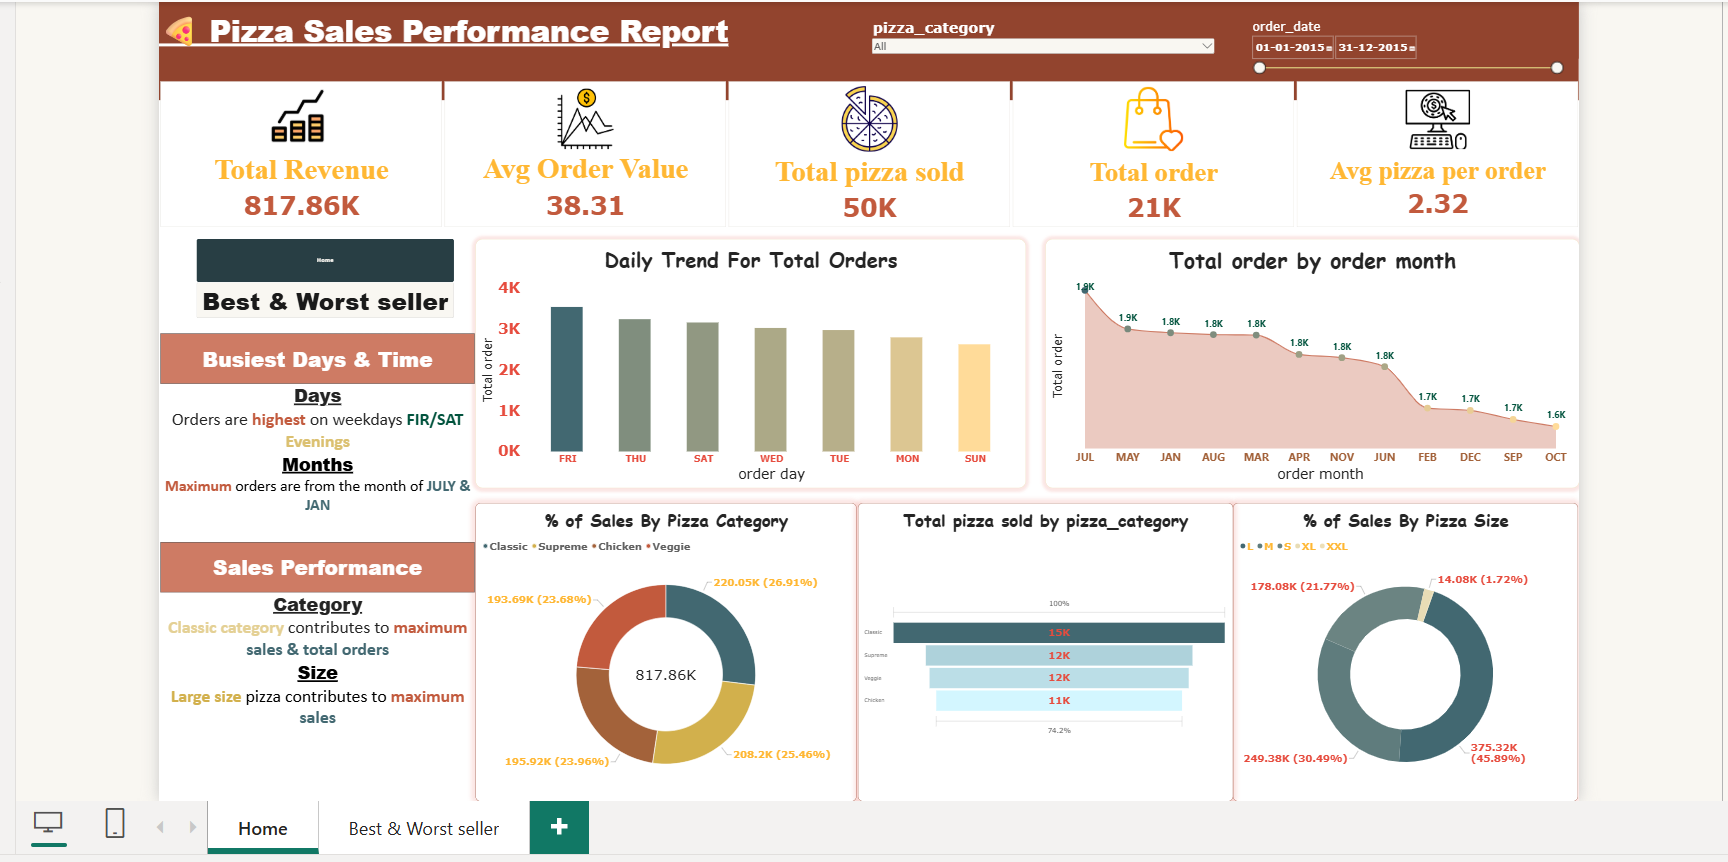

The page's visual inventory and layout, read from the dashboard file:
{"tool":"powerbi","page":{"name":"Home","canvas":[3840,2160],"ordinal":0},"visuals":[{"type":"textbox","title":"🍕 Pizza Sales  Performance Report","box":[2,0,3838,265],"z":0},{"type":"cardVisual","fields":{"Data":["pizza_sales.Total Revenue","pizza_sales.Avg Order Value","pizza_sales.Total pizza sold","pizza_sales.Total order","pizza_sales.Avg pizza per order"]},"box":[4.1,214.9,3832.1,393.3],"z":1000},{"type":"columnChart","title":"Daily Trend For Total Orders","fields":{"Category":["pizza_sales.order day"],"Y":["pizza_sales.Total order"]},"box":[855.6,640.7,1488.2,673.2],"z":1001},{"type":"areaChart","fields":{"Category":["pizza_sales.order month"],"Y":["pizza_sales.Total order"]},"box":[2396.6,640.7,1443.6,673.2],"z":1002},{"type":"donutChart","title":"% of Sales By Pizza Category","fields":{"Category":["pizza_sales.pizza_category"],"Y":["pizza_sales.Total Revenue"]},"box":[855.6,1354.4,1030,807],"z":1003},{"type":"pieChart","title":"% of Sales By Pizza Size","fields":{"Category":["pizza_sales.pizza_size"],"Y":["pizza_sales.Total Revenue"]},"box":[2903.5,1354.4,932.7,807],"z":1004},{"type":"funnel","fields":{"Category":["pizza_sales.pizza_category"],"Y":["pizza_sales.Total pizza sold"]},"box":[1889.7,1354.4,1013.8,807],"z":1005},{"type":"shape","box":[4.5,894.9,849.5,136.3],"z":1006},{"type":"textbox","box":[4.5,1031.2,849.5,368],"z":1007},{"type":"shape","box":[4.5,1458.2,849.5,136.3],"z":1008},{"type":"textbox","box":[4.5,1594.5,849.5,495.1],"z":1009},{"type":"slicer","fields":{"Values":["pizza_sales.pizza_category"]},"box":[1921.5,45.4,935.8,109],"z":1010},{"type":"slicer","fields":{"Values":["pizza_sales.order_date"]},"box":[2948.2,45.4,852,283],"z":1011},{"type":"pageNavigator","box":[100,640,696.7,116.7],"z":1014},{"type":"pageNavigator","box":[100,756.7,696.7,96.7],"z":1015}]}

Visuals, with their boxes on the page's 3840x2160 design canvas (x1, y1, x2, y2). These are canvas units, not pixel positions in the 1728x862 screenshot, which may show the page scaled, cropped or inside an application window:
"🍕 Pizza Sales  Performance Report" textbox: (x1=2, y1=0, x2=3840, y2=265)
cardVisual - pizza_sales.Total Revenue x pizza_sales.Avg Order Value: (x1=4, y1=215, x2=3836, y2=608)
"Daily Trend For Total Orders" columnChart: (x1=856, y1=641, x2=2344, y2=1314)
areaChart - pizza_sales.order month x pizza_sales.Total order: (x1=2397, y1=641, x2=3840, y2=1314)
"% of Sales By Pizza Category" donutChart: (x1=856, y1=1354, x2=1886, y2=2161)
"% of Sales By Pizza Size" pieChart: (x1=2904, y1=1354, x2=3836, y2=2161)
funnel - pizza_sales.pizza_category x pizza_sales.Total pizza sold: (x1=1890, y1=1354, x2=2904, y2=2161)
shape: (x1=4, y1=895, x2=854, y2=1031)
textbox: (x1=4, y1=1031, x2=854, y2=1399)
shape: (x1=4, y1=1458, x2=854, y2=1594)
textbox: (x1=4, y1=1594, x2=854, y2=2090)
slicer - pizza_sales.pizza_category: (x1=1922, y1=45, x2=2857, y2=154)
slicer - pizza_sales.order_date: (x1=2948, y1=45, x2=3800, y2=328)
pageNavigator: (x1=100, y1=640, x2=797, y2=757)
pageNavigator: (x1=100, y1=757, x2=797, y2=853)
